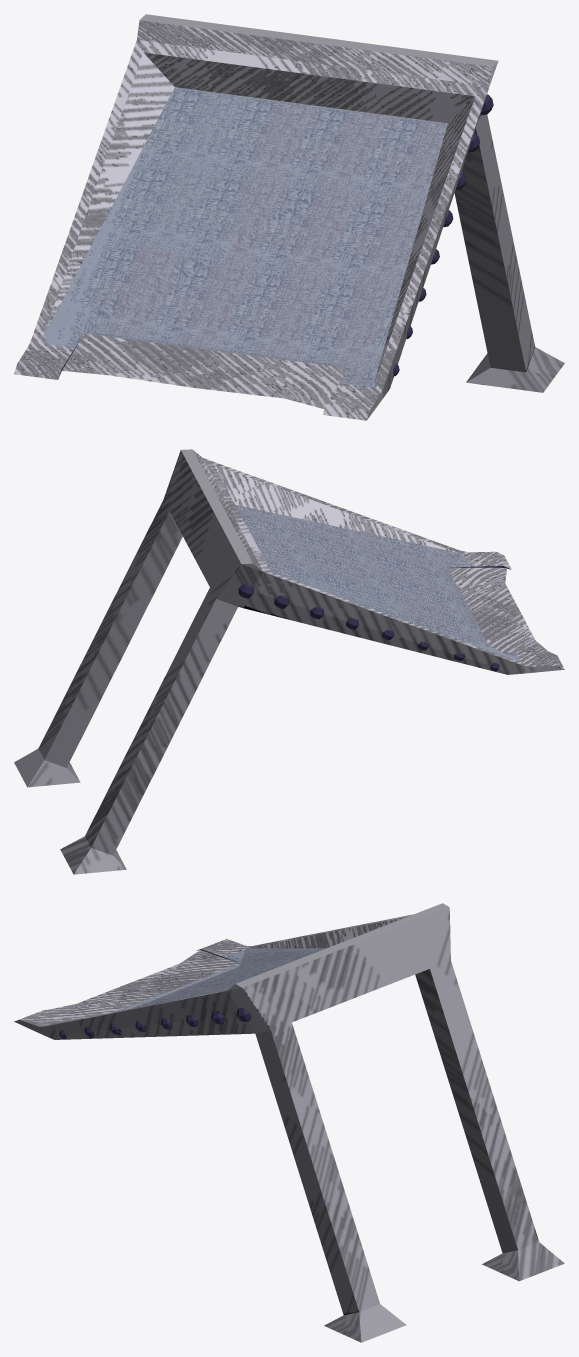
File: runway_parking.glb
3 renders of one model, top to bottom at view 1: azimuth 30°, elevation 25°; view 2: azimuth 150°, elevation 25°; view 3: azimuth 270°, elevation 25°, orthographic. The views are drawn at different scales.
Parts seen in each view (by area): view 1: Parking; view 2: Parking; view 3: Parking.
Boxes of the visible parts, x1,y1,x2,y2 form: Parking: (14, 14, 564, 420); Parking: (14, 449, 564, 874); Parking: (14, 903, 564, 1342).
Size of the model in its own units: 16.93 by 9.94 by 16.48.
Materials: 1 (1 with a texture image).
